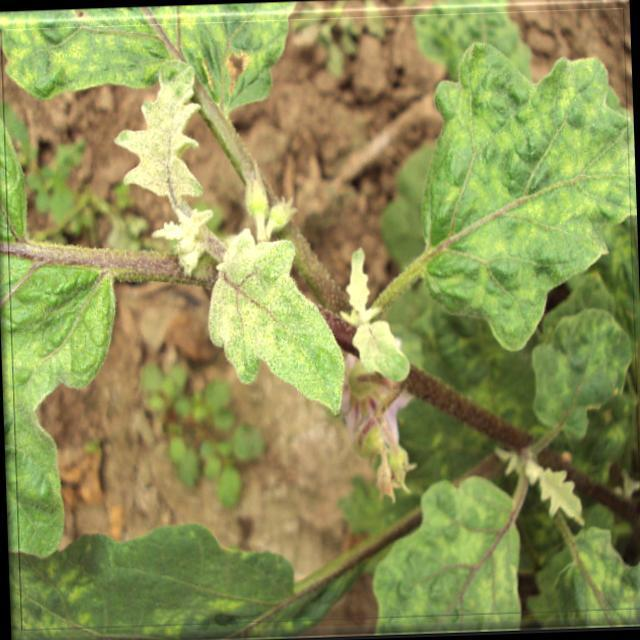Mosaic Virus: (410, 51, 634, 332), (374, 486, 522, 627)
